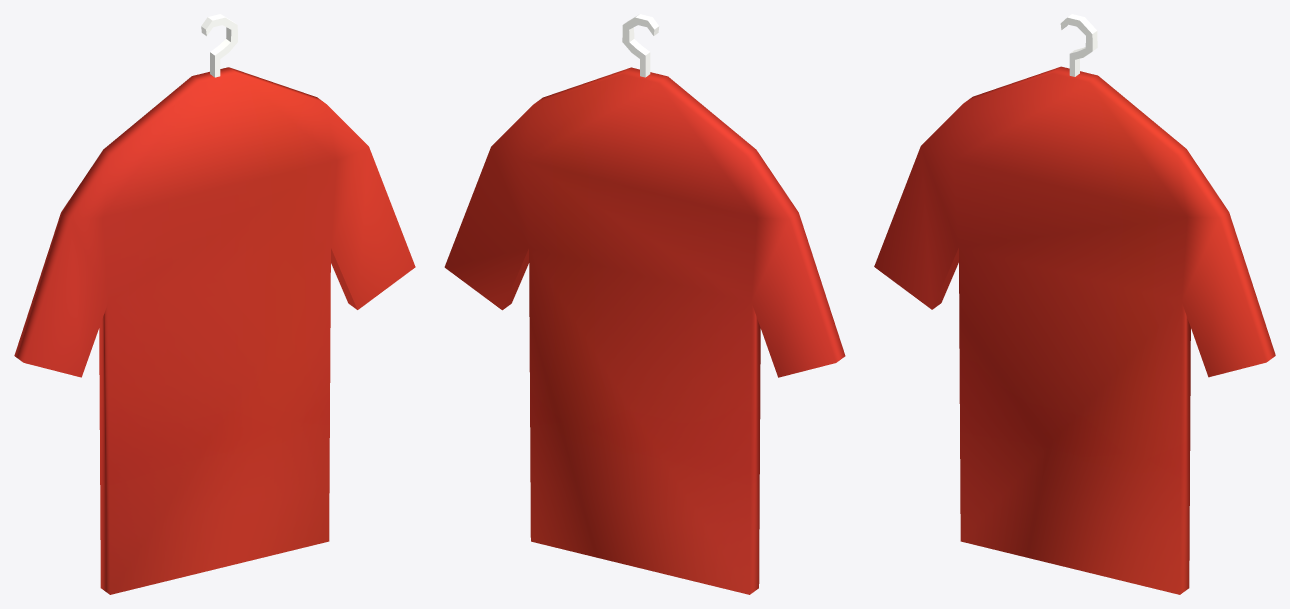
The model's file is ClothingHangerWhiteShirtRed.glb.
The picture shows the model from 3 angles, left to right: view 1: azimuth 30°, elevation 25°; view 2: azimuth 150°, elevation 25°; view 3: azimuth 330°, elevation 25°; orthographic projection.
Visible parts, largest first — view 1: ClothingHangerWhiteShirtRed; view 2: ClothingHangerWhiteShirtRed; view 3: ClothingHangerWhiteShirtRed.
Boxes of the visible parts, x1,y1,x2,y2 form: ClothingHangerWhiteShirtRed: (14, 14, 415, 594); ClothingHangerWhiteShirtRed: (444, 14, 845, 594); ClothingHangerWhiteShirtRed: (874, 14, 1275, 594).
Bounding box in the file's own units: 0.76 × 1.01 × 0.0315.
Materials: 1 (1 with a texture image).
